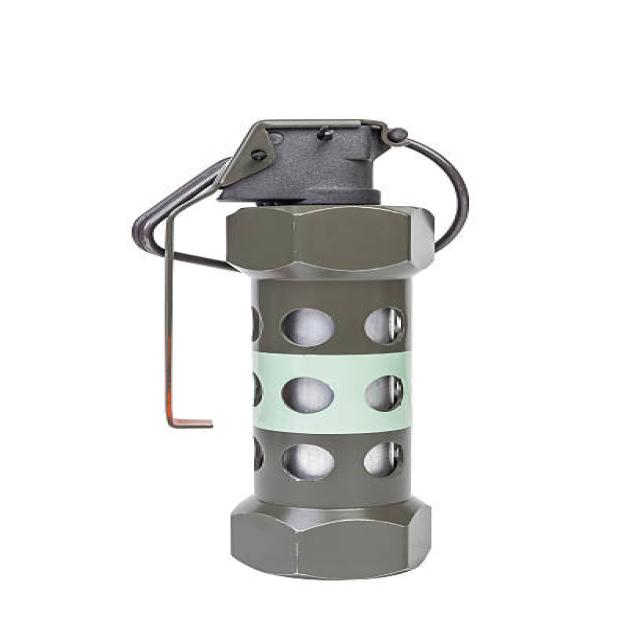grenade: (128, 111, 477, 589)
